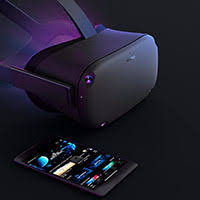oculus: (24, 27, 162, 126)
